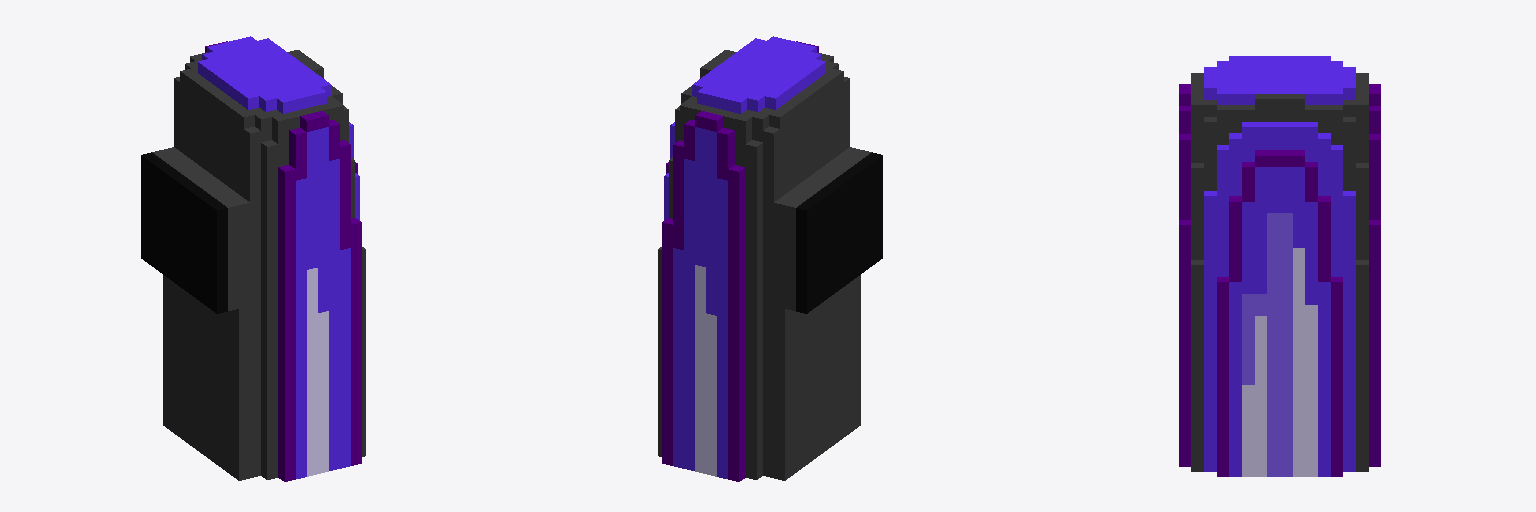
The picture shows the model from 3 angles: view 1: azimuth 30°, elevation 25°; view 2: azimuth 150°, elevation 25°; view 3: azimuth 270°, elevation 25°; orthographic projection.
Visible parts, largest first — view 1: object 1; view 2: object 1; view 3: object 1.
Boxes of the visible parts, box(x1,y1,x2,y2) form: object 1: box(141, 36, 365, 481); object 1: box(658, 36, 882, 481); object 1: box(1179, 56, 1380, 476).
Bounding box in the file's own units: 1.4 × 3.2 × 1.6.
1 materials, 1 textured.